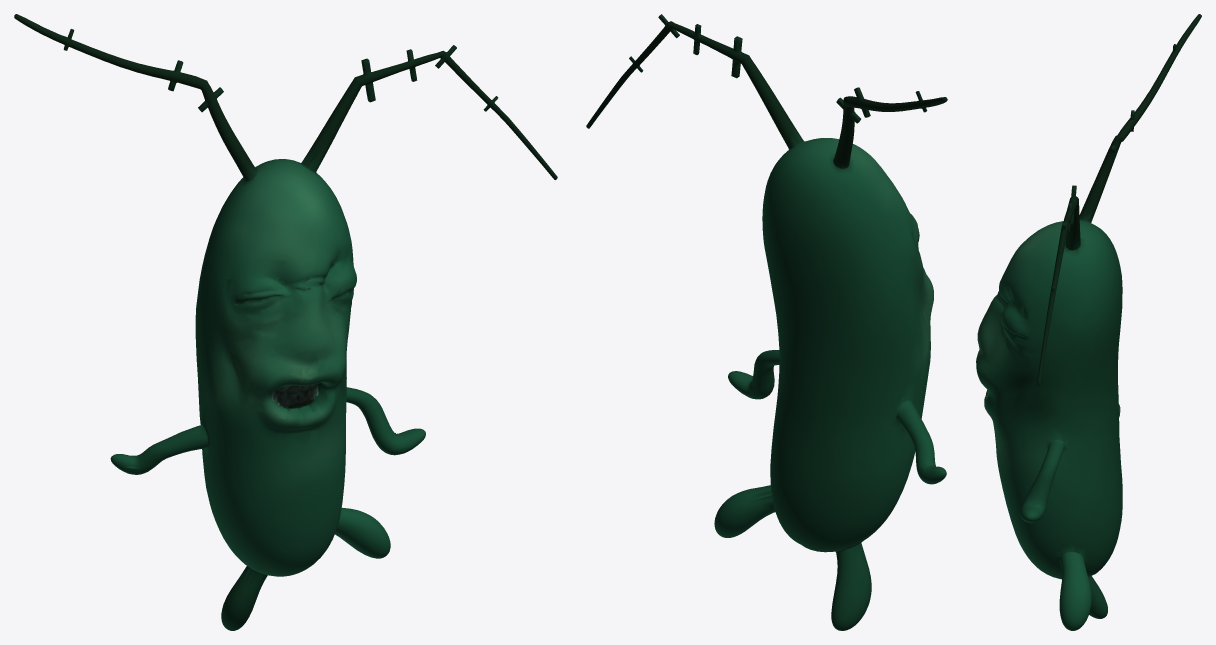
The model's file is Plankton.fbx.
3 renders of one model, left to right at view 1: azimuth 30°, elevation 25°; view 2: azimuth 150°, elevation 25°; view 3: azimuth 270°, elevation 25°, orthographic. The views are drawn at different scales.
Parts seen in each view (by area): view 1: PM3D_Sphere3D; view 2: PM3D_Sphere3D; view 3: PM3D_Sphere3D.
Part boxes in pixels (box(x1,y1,x2,y2)): PM3D_Sphere3D: box(14, 14, 557, 630); PM3D_Sphere3D: box(586, 14, 947, 630); PM3D_Sphere3D: box(976, 14, 1201, 630).
Bounding box in the file's own units: 95.78 × 124 × 47.41.
